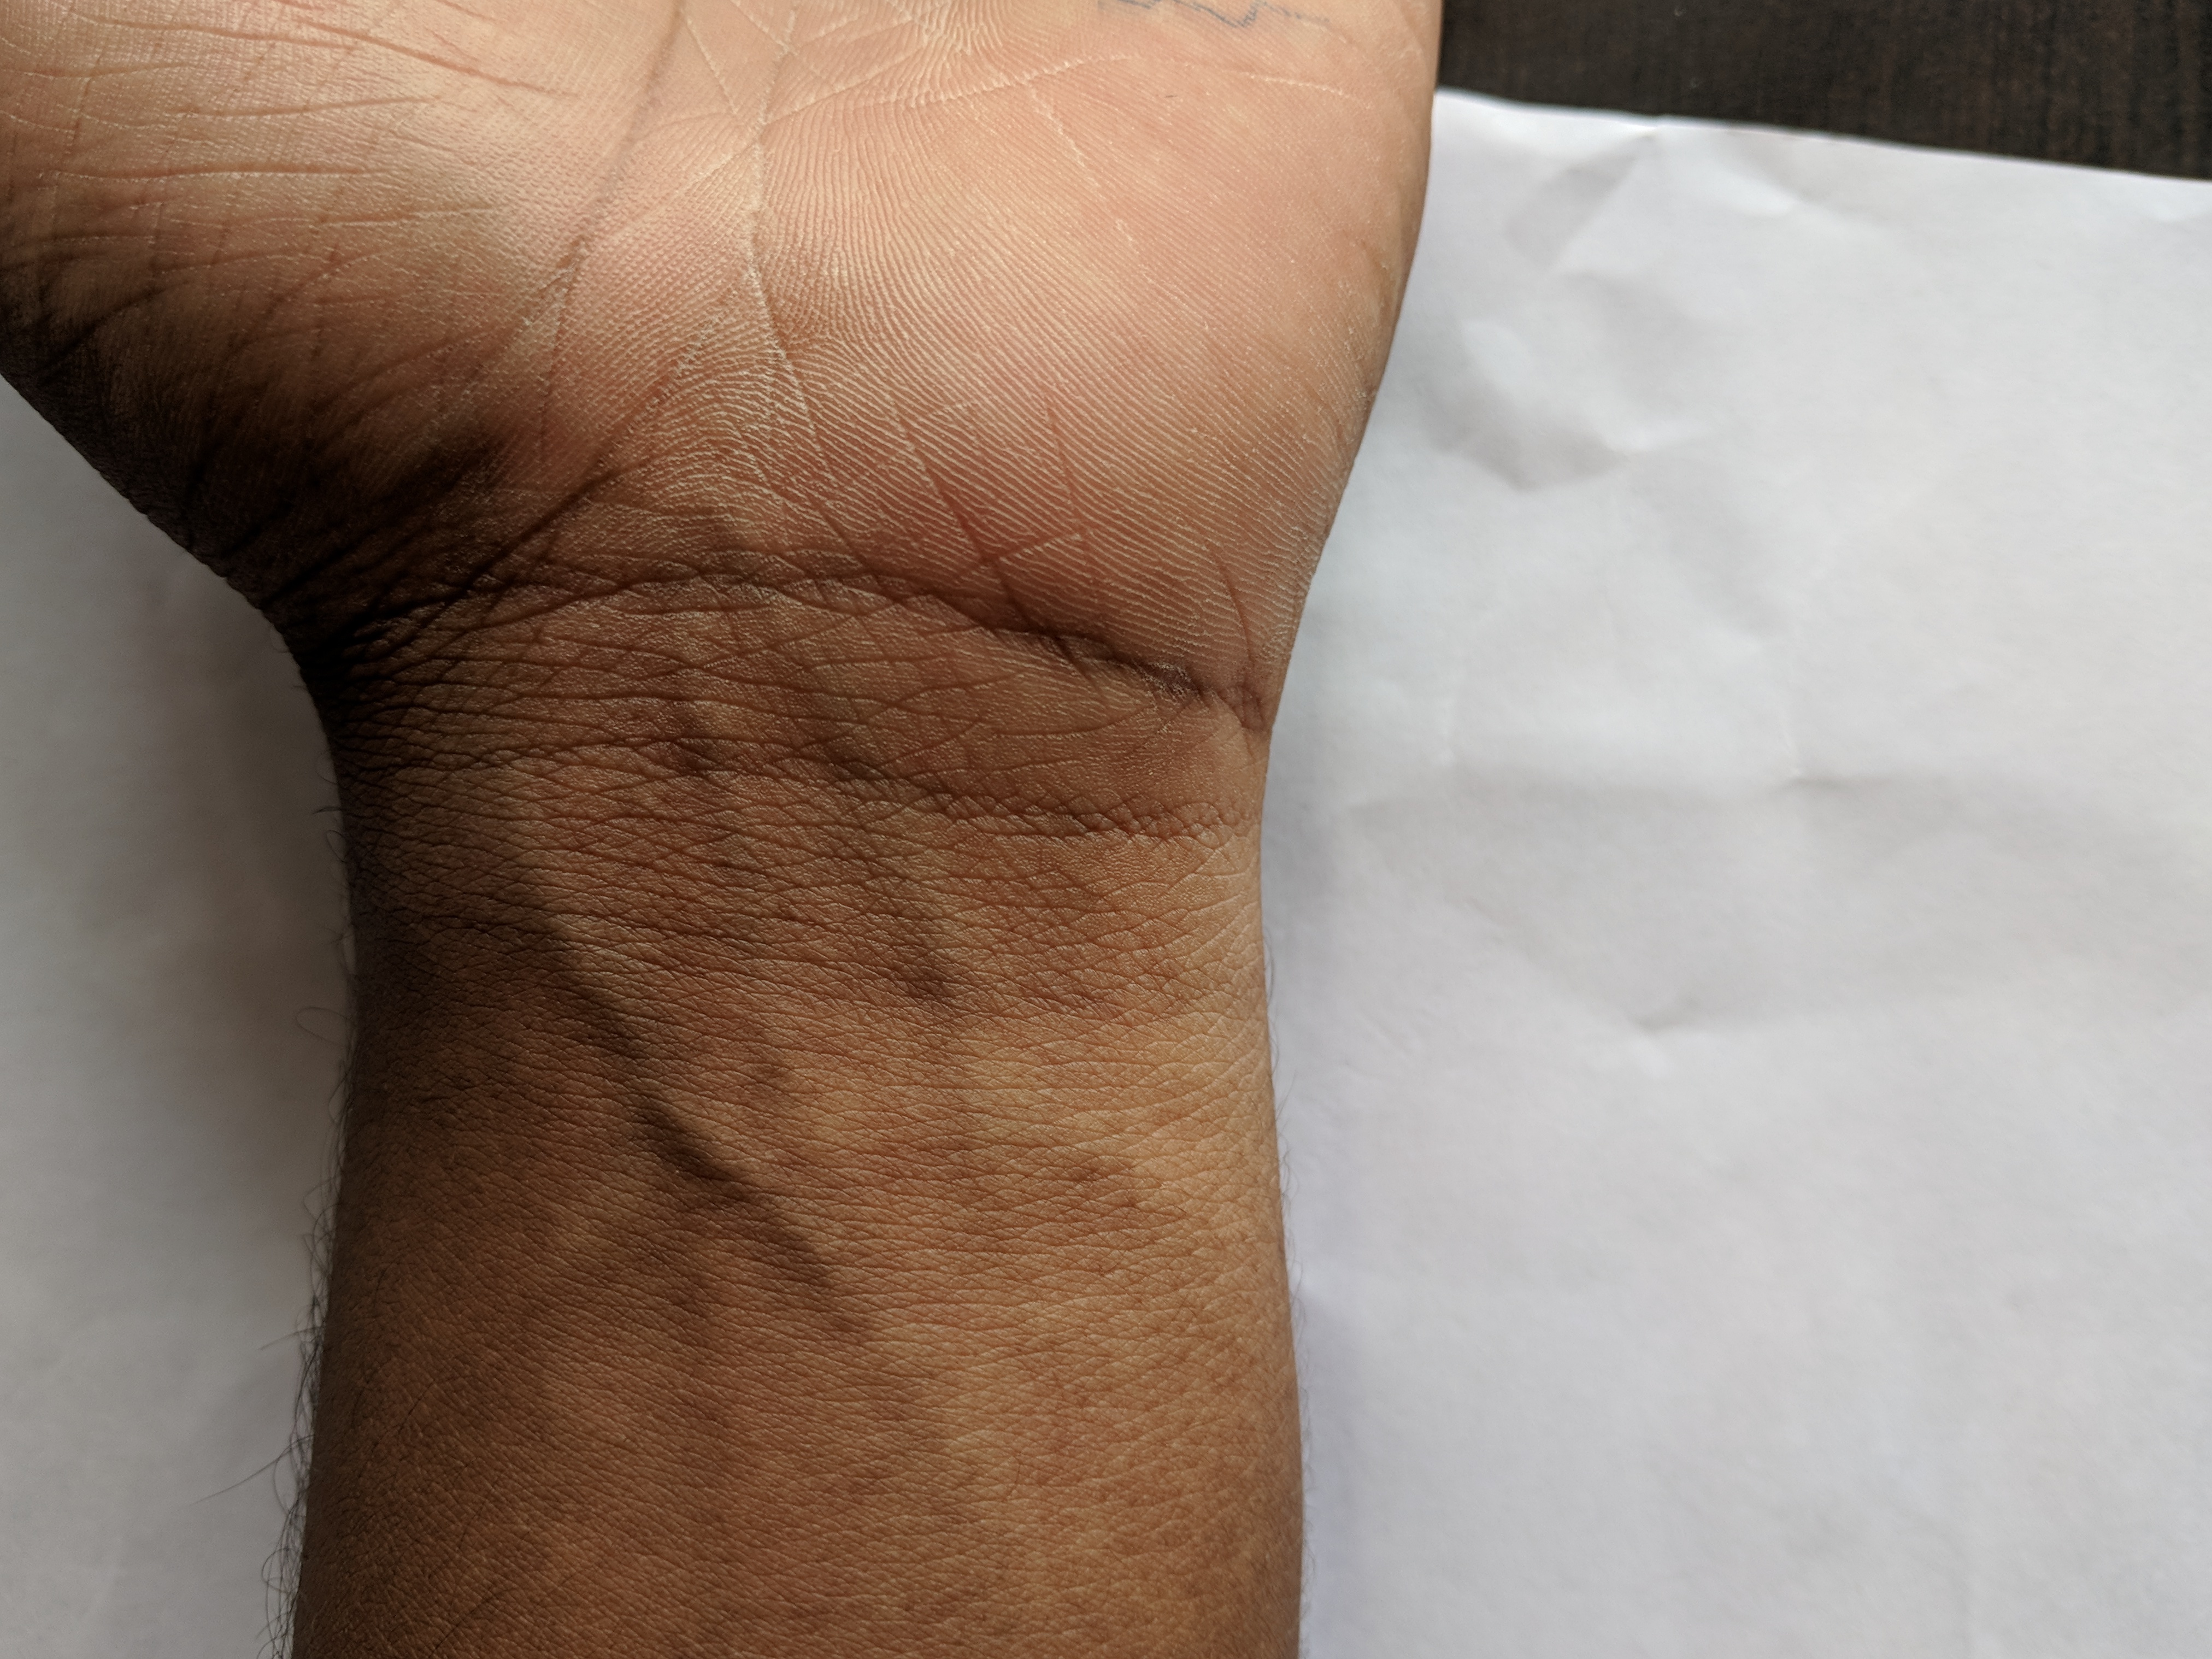lefthandwrist: (218, 561, 1315, 1053)
